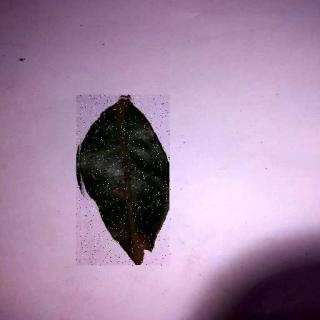Bird Eye Spot: (78, 96, 172, 268)
